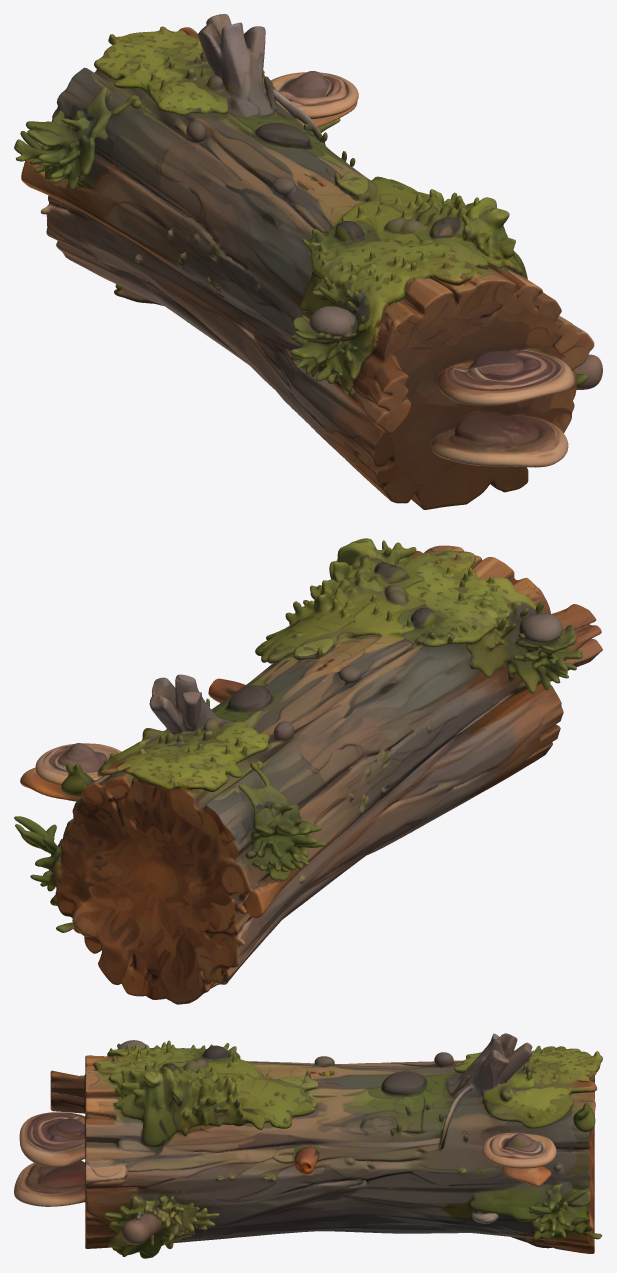
File: fallen_log.glb
The picture shows the model from 3 angles, top to bottom: view 1: azimuth 30°, elevation 25°; view 2: azimuth 150°, elevation 25°; view 3: azimuth 270°, elevation 25°; orthographic projection. The views are drawn at different scales.
Parts seen in each view (by area): view 1: tripo_node_4407724a-266f-4445-a103-0d32ad10b7e2; view 2: tripo_node_4407724a-266f-4445-a103-0d32ad10b7e2; view 3: tripo_node_4407724a-266f-4445-a103-0d32ad10b7e2.
Part boxes in pixels (<box>): tripo_node_4407724a-266f-4445-a103-0d32ad10b7e2: <box>14,14,602,509</box>; tripo_node_4407724a-266f-4445-a103-0d32ad10b7e2: <box>14,538,602,1004</box>; tripo_node_4407724a-266f-4445-a103-0d32ad10b7e2: <box>14,1033,602,1258</box>.
Bounding box in the file's own units: 0.4878 × 0.4171 × 1.
Materials: 1 (1 with a texture image).
